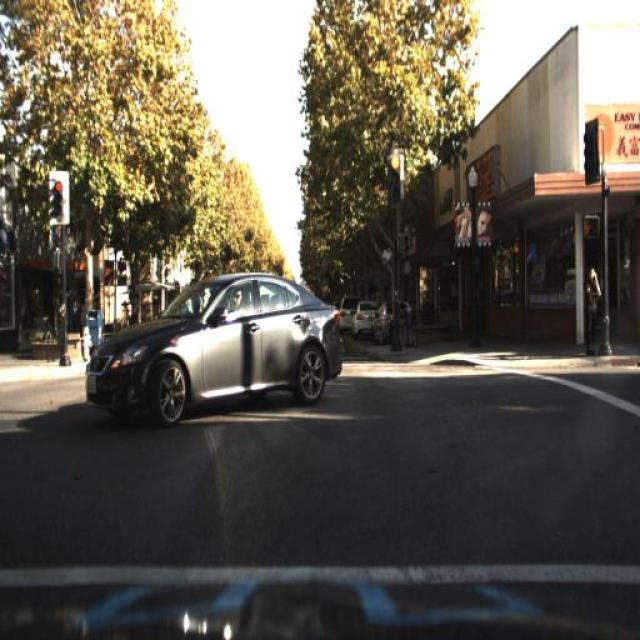car: (80, 273, 344, 415), (371, 297, 413, 344), (351, 294, 380, 344), (353, 304, 377, 334), (339, 293, 350, 329)
trafficLight: (578, 264, 604, 362), (580, 260, 602, 360), (387, 294, 404, 360)
trafficLight-RedLeft: (386, 150, 402, 205), (50, 171, 66, 223)
